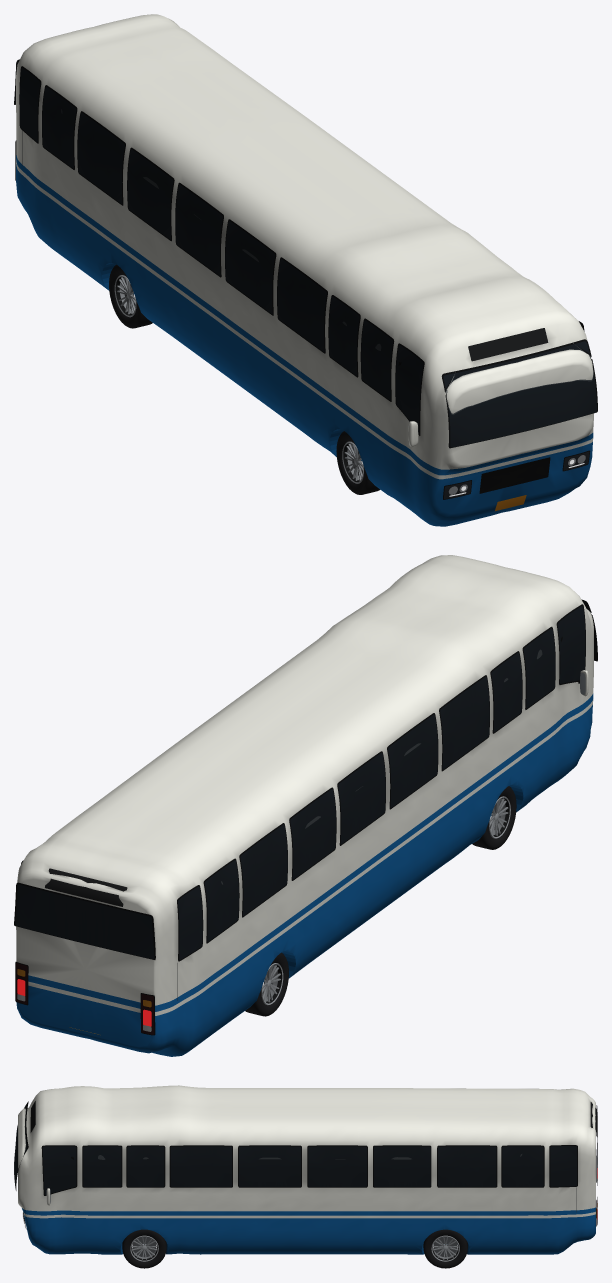
File: state_bus.glb
3 renders of one model, top to bottom at view 1: azimuth 30°, elevation 25°; view 2: azimuth 150°, elevation 25°; view 3: azimuth 270°, elevation 25°, orthographic. The views are drawn at different scales.
Parts seen in each view (by area): view 1: body, wheel_FR, wheel_RR; view 2: body, wheel_FR, wheel_RR; view 3: body, wheel_RL, wheel_FL.
Part boxes in pixels (left/top/right/bottom): body: left=14, top=14, right=597, bottom=526; wheel_FR: left=336, top=431, right=380, bottom=494; wheel_RR: left=109, top=264, right=152, bottom=328; body: left=14, top=555, right=597, bottom=1056; wheel_FR: left=472, top=786, right=516, bottom=849; wheel_RR: left=245, top=952, right=288, bottom=1016; body: left=14, top=1085, right=597, bottom=1254; wheel_RL: left=423, top=1229, right=467, bottom=1268; wheel_FL: left=122, top=1229, right=166, bottom=1268.
Bounding box in the file's own units: 2.77 × 3.21 × 11.83.
